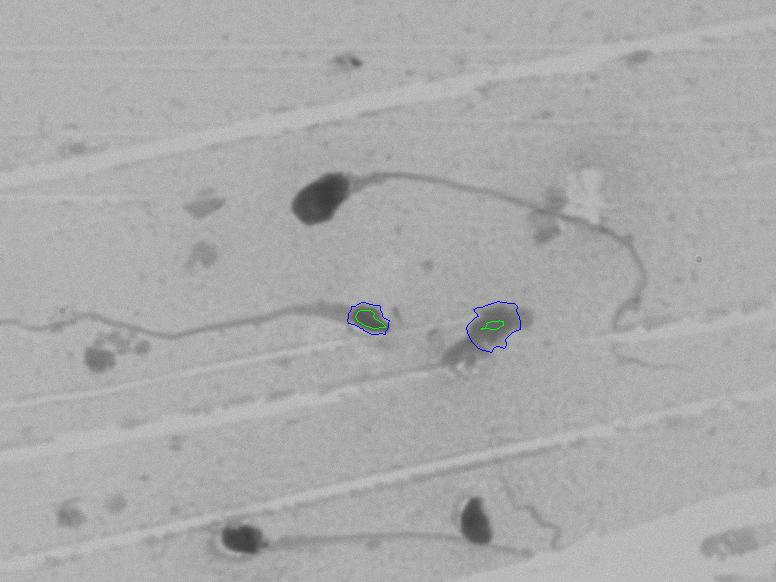Abnormal: (270, 112, 672, 280)
